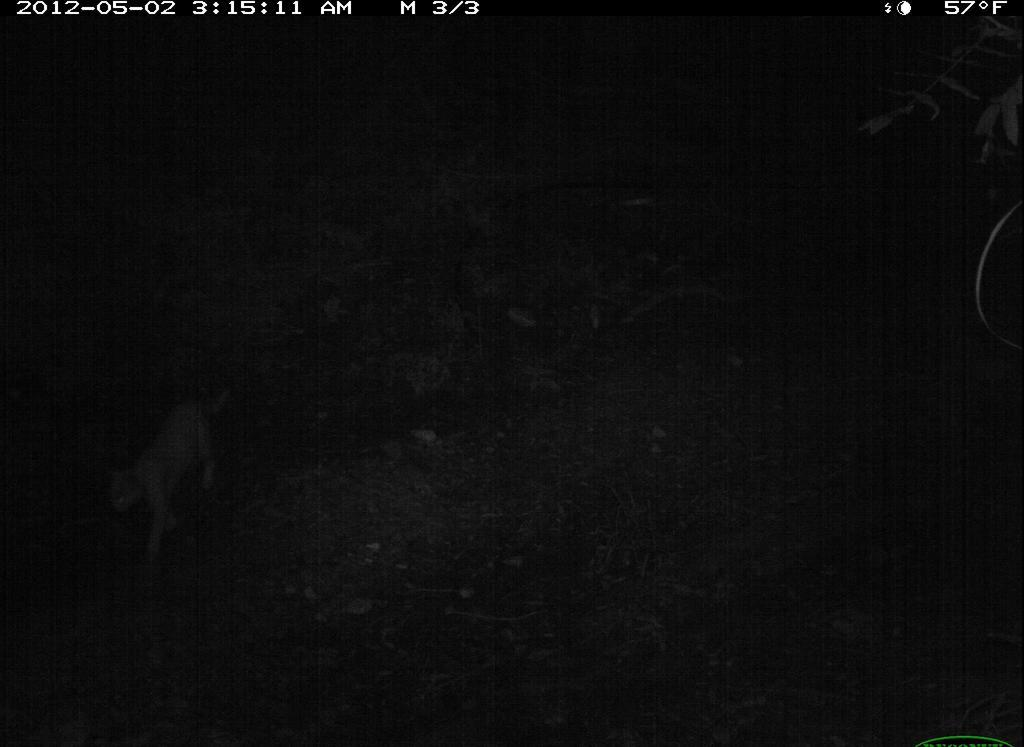cat: (98, 374, 246, 560)
